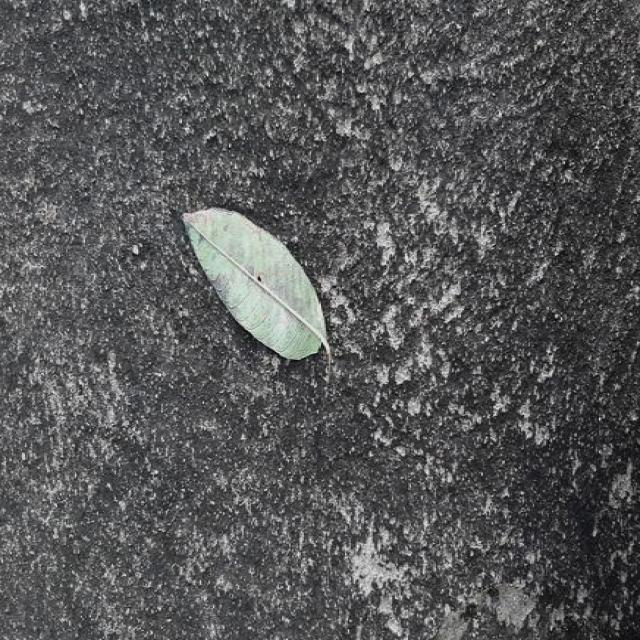leaf: (180, 205, 332, 373)
